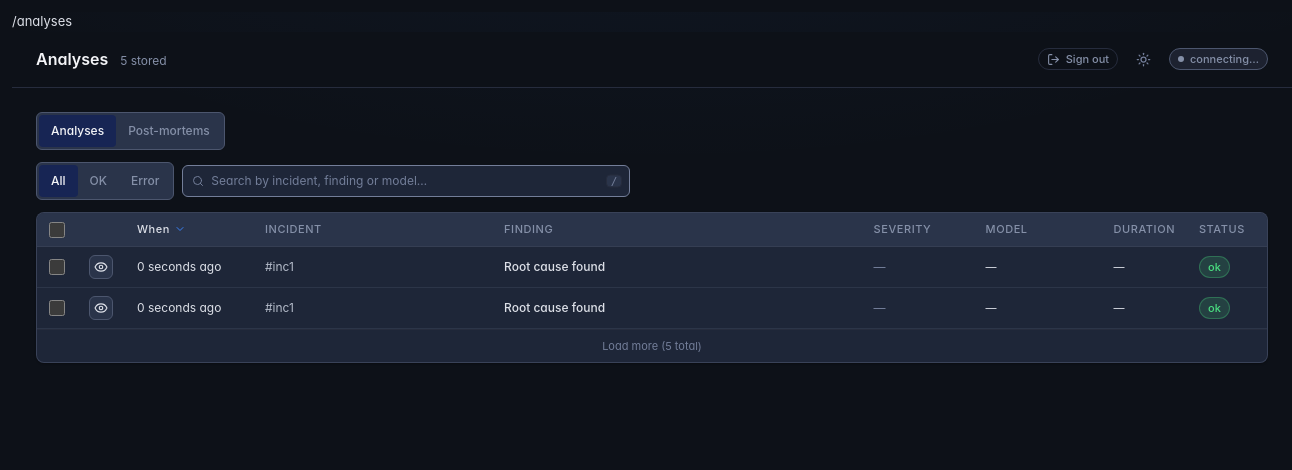
Test: AnalysesListPage server pagination › shows the whole-set total, not just the loaded page, and loads more
The width and height of the screenshot is (1292, 470).
Check: the text "5 stored" is shown, box [120,53,167,69]
Check: the button named "View analysis a1" is shown, box [89,254,113,278]
Click the button "Load more (5 total)".
click(652, 346)  # box [602,338,702,354]
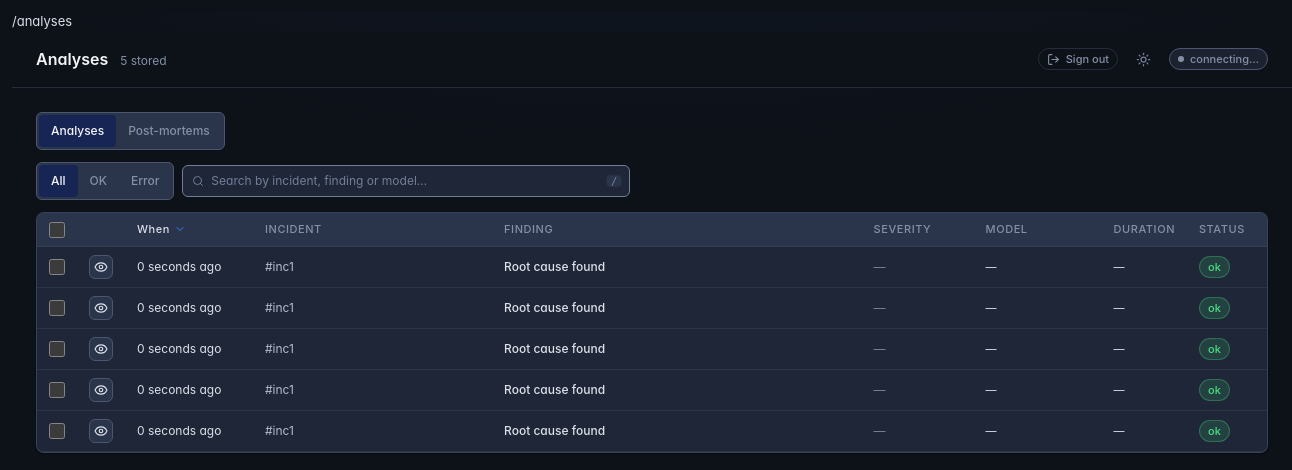
Check: the button named "View analysis a5" is shown, box [89,336,113,360]
